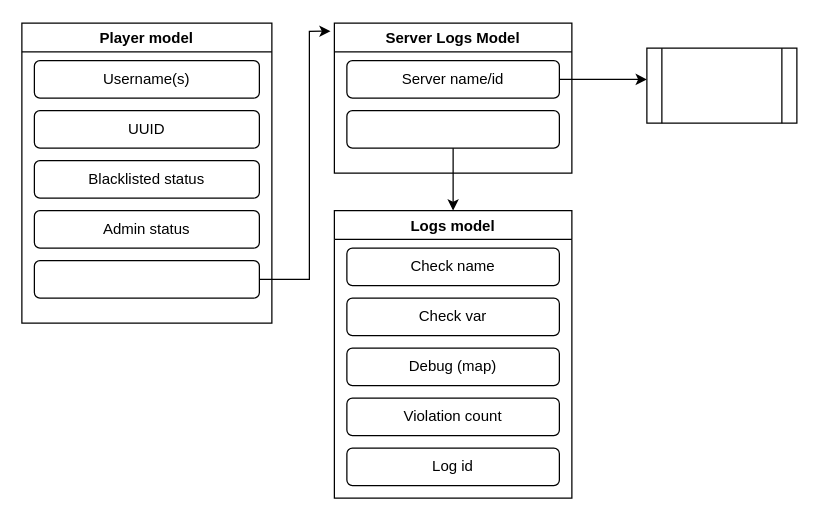
The diagram is 819 pixels wide and 520 high, and some of its shapes have lost their labels. Each missing label, with the centre of its shape:
Links to server in a different collection: point 721,85
Logs (array): point 452,128
Logs [by server] (array): point 146,278
